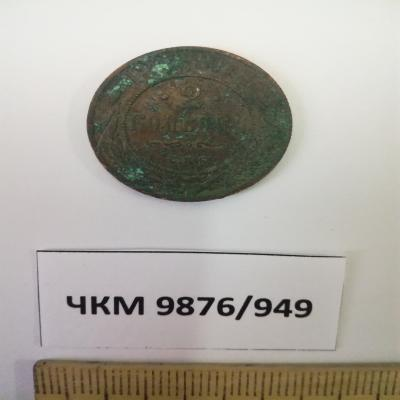numismatics: (88, 47, 292, 202)
